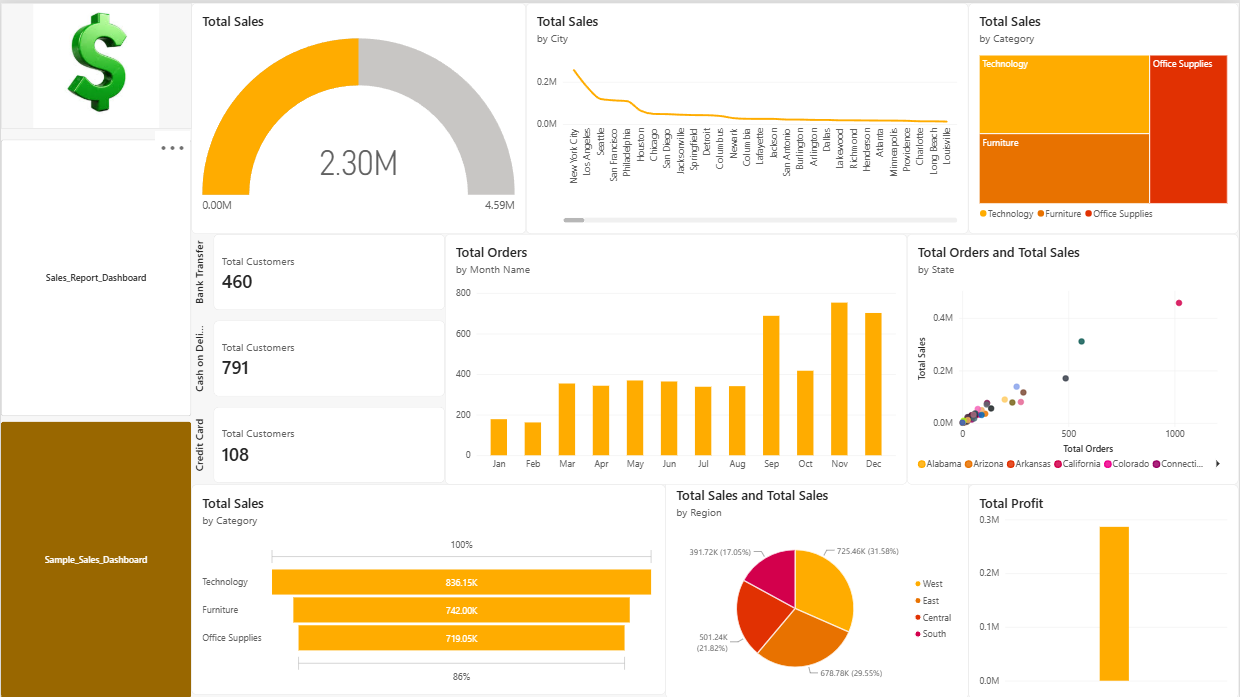

What the dashboard file says about the page in this screenshot:
{"tool":"powerbi","page":{"name":"Sales & Product Analysis","canvas":[1920,1080],"ordinal":1},"visuals":[{"type":"pieChart","fields":{"Y":["Superstore.Total Sales"],"Category":["Superstore.Region"]},"box":[1030.6,735.1,469.9,344.3],"z":0},{"type":"columnChart","fields":{"Category":["Superstore.Month Name"],"Y":["Superstore.Total Orders"]},"box":[688.6,358.3,716.5,388.5],"z":1000},{"type":"lineChart","fields":{"Y":["Superstore.Total Sales"],"Category":["Superstore.City"]},"box":[814.2,0,686.3,358.3],"z":2000},{"type":"treemap","fields":{"Values":["Superstore.Total Sales"],"Group":["Superstore.Category"]},"box":[1500.5,0,418.7,358.3],"z":3000},{"type":"scatterChart","fields":{"Series":["Superstore.State"],"Y":["Superstore.Total Sales"],"X":["Superstore.Total Orders"]},"box":[1405.1,358.3,514.1,388.5],"z":4000},{"type":"gauge","fields":{"Y":["Superstore.Total Sales"]},"box":[295.4,0,518.8,358.3],"z":5000},{"type":"clusteredColumnChart","fields":{"Y":["Superstore.Total Profit"]},"box":[1500.5,746.8,418.7,332.7],"z":6000},{"type":"funnel","fields":{"Y":["Superstore.Total Sales"],"Category":["Superstore.Category"]},"box":[295.4,746.8,735.1,325.7],"z":7000},{"type":"cardVisual","fields":{"Data":["Superstore.Total Customers"],"Rows":["Superstore.Payment Mode"]},"box":[295.4,358.3,393.2,388.5],"z":8000},{"type":"pageNavigator","box":[0,211.7,295.4,867.7],"z":9000},{"type":"image","box":[0,0,295.4,195.4],"z":9001}]}

Visuals, with their boxes on the page's 1920x1080 design canvas (x1, y1, x2, y2). These are canvas units, not pixel positions in the 1240x697 screenshot, which may show the page scaled, cropped or inside an application window:
pieChart - Superstore.Total Sales x Superstore.Region: <bbox>1031, 735, 1500, 1079</bbox>
columnChart - Superstore.Month Name x Superstore.Total Orders: <bbox>689, 358, 1405, 747</bbox>
lineChart - Superstore.Total Sales x Superstore.City: <bbox>814, 0, 1500, 358</bbox>
treemap - Superstore.Total Sales x Superstore.Category: <bbox>1500, 0, 1919, 358</bbox>
scatterChart - Superstore.State x Superstore.Total Sales: <bbox>1405, 358, 1919, 747</bbox>
gauge - Superstore.Total Sales: <bbox>295, 0, 814, 358</bbox>
clusteredColumnChart - Superstore.Total Profit: <bbox>1500, 747, 1919, 1080</bbox>
funnel - Superstore.Total Sales x Superstore.Category: <bbox>295, 747, 1030, 1072</bbox>
cardVisual - Superstore.Total Customers x Superstore.Payment Mode: <bbox>295, 358, 689, 747</bbox>
pageNavigator: <bbox>0, 212, 295, 1079</bbox>
image: <bbox>0, 0, 295, 195</bbox>
